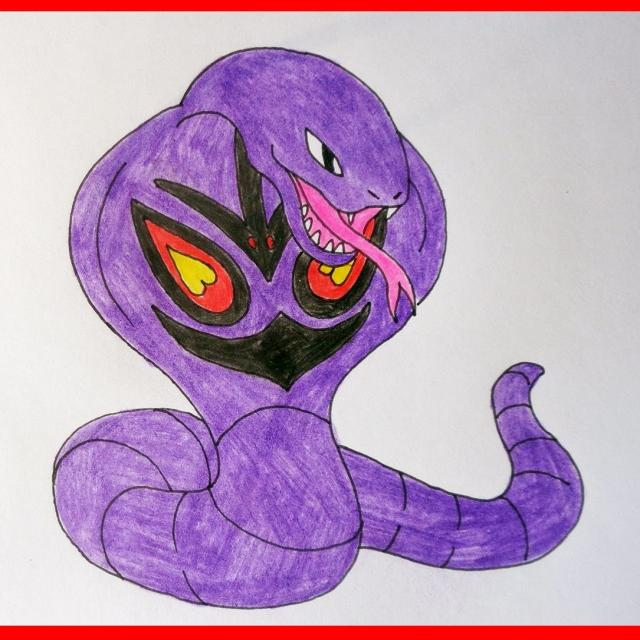Arbok: (48, 49, 460, 602)
